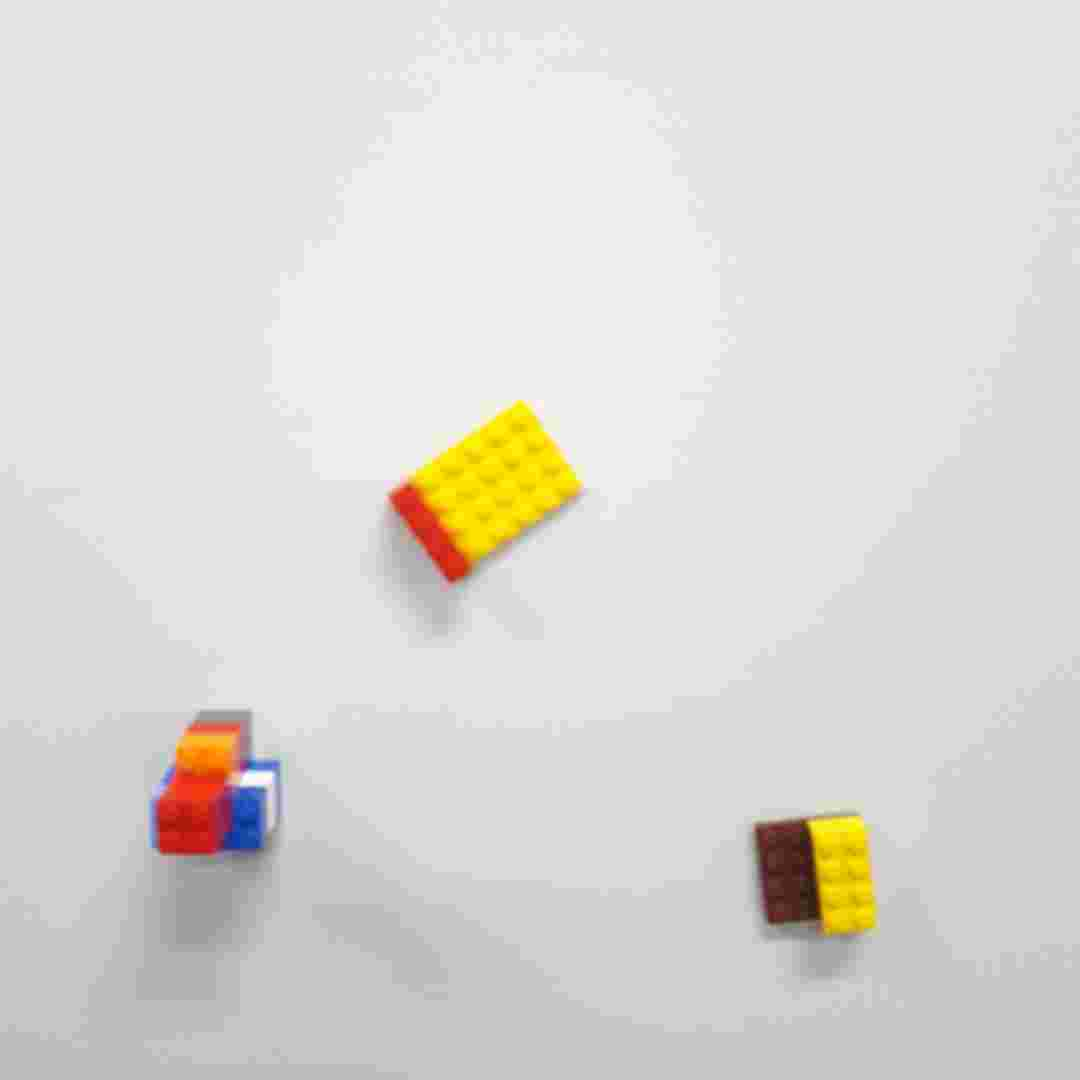LEGO: (386, 400, 593, 587), (149, 707, 287, 856), (750, 808, 883, 942)
